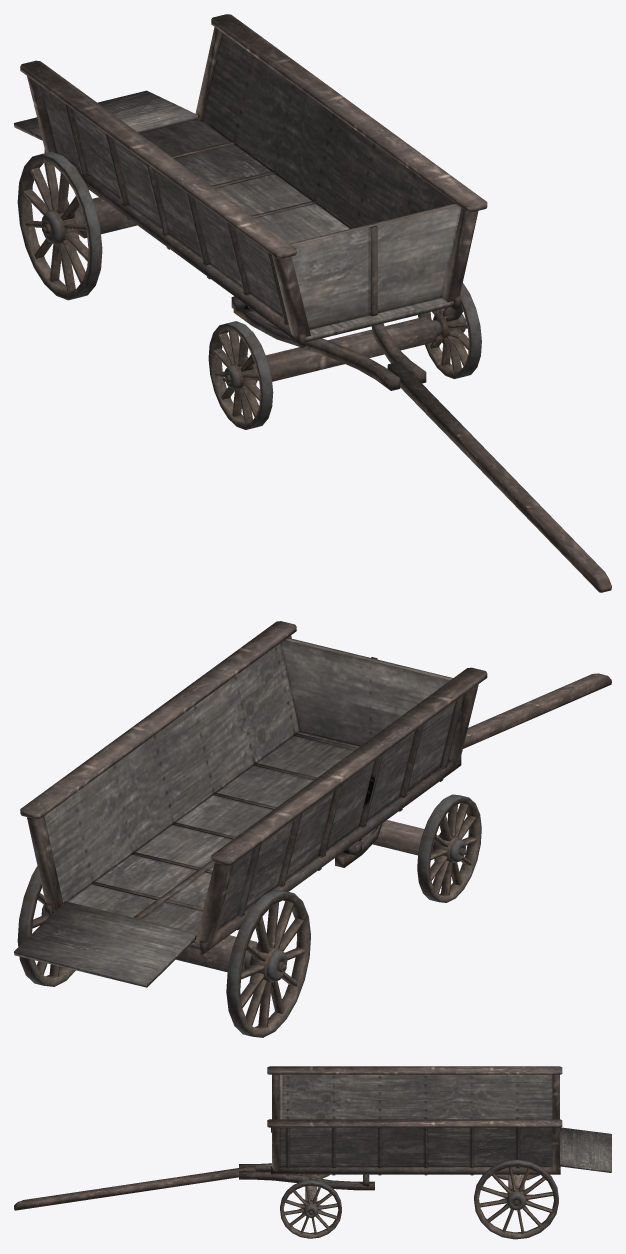
File: Wagon.fbx
3 views of the same model, one above another, from view 1: azimuth 30°, elevation 25°; view 2: azimuth 150°, elevation 25°; view 3: azimuth 270°, elevation 25° (orthographic). The views are drawn at different scales.
Visible parts, largest first — view 1: Wagon; view 2: Wagon; view 3: Wagon.
Boxes of the visible parts, x1,y1,x2,y2 form: Wagon: [14, 14, 611, 592]; Wagon: [14, 621, 611, 1037]; Wagon: [14, 1066, 611, 1239].
Bounding box in the file's own units: 169 × 133 × 634.
